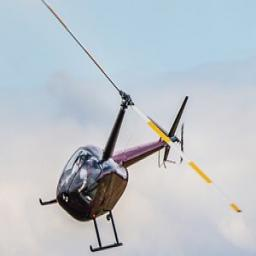helicopter: (40, 2, 243, 252)
